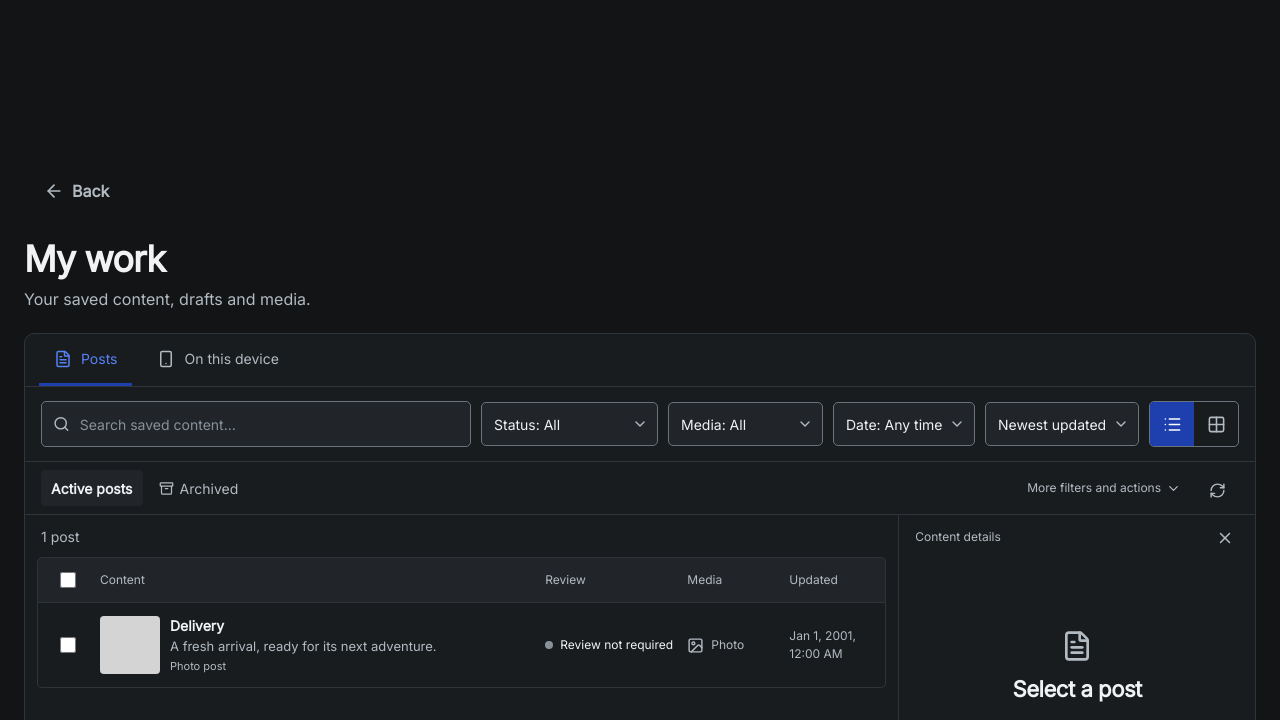
Test: Content workspace › offers a retry if the explicit device collection read fails
(page scrolled)
Step 1. Click the button "On this device" → x=218, y=360, box [142, 334, 294, 386]
(page scrolled)
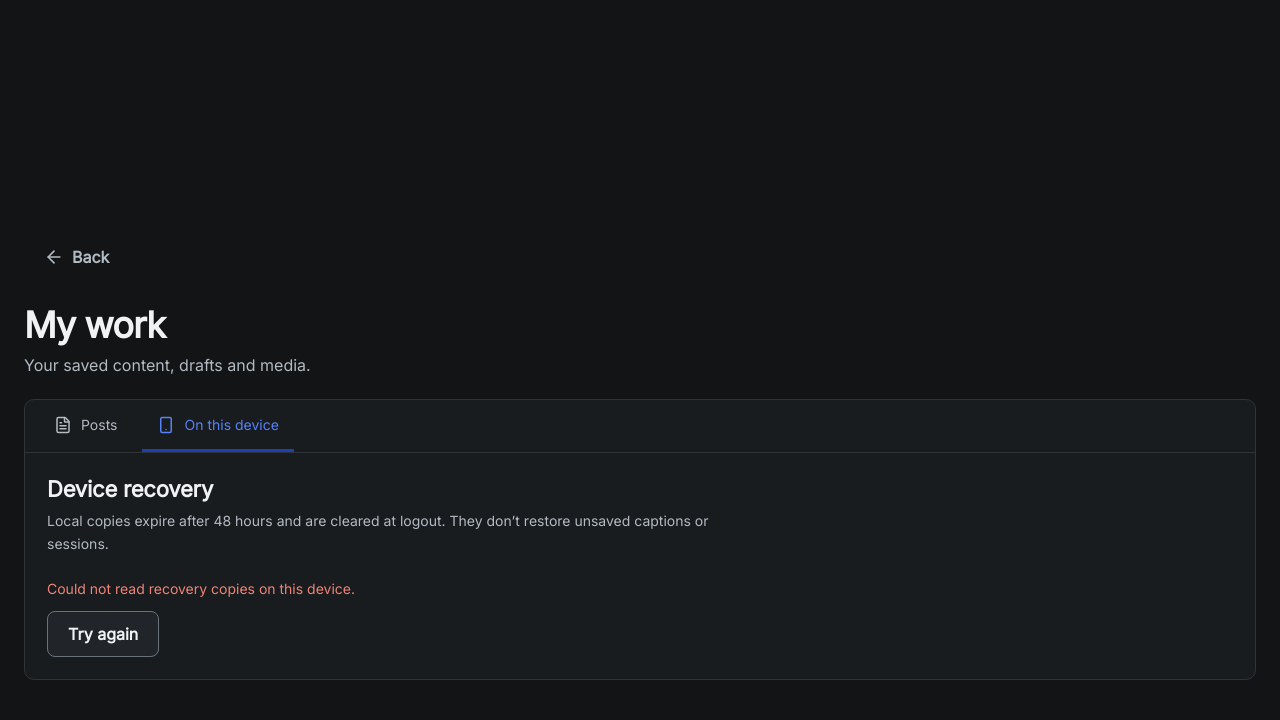
Now the message shows "Could not read recovery copies", box [47, 580, 355, 597]
Step 2. Click the button "Try again" → x=103, y=634, box [47, 611, 159, 657]
(page scrolled)
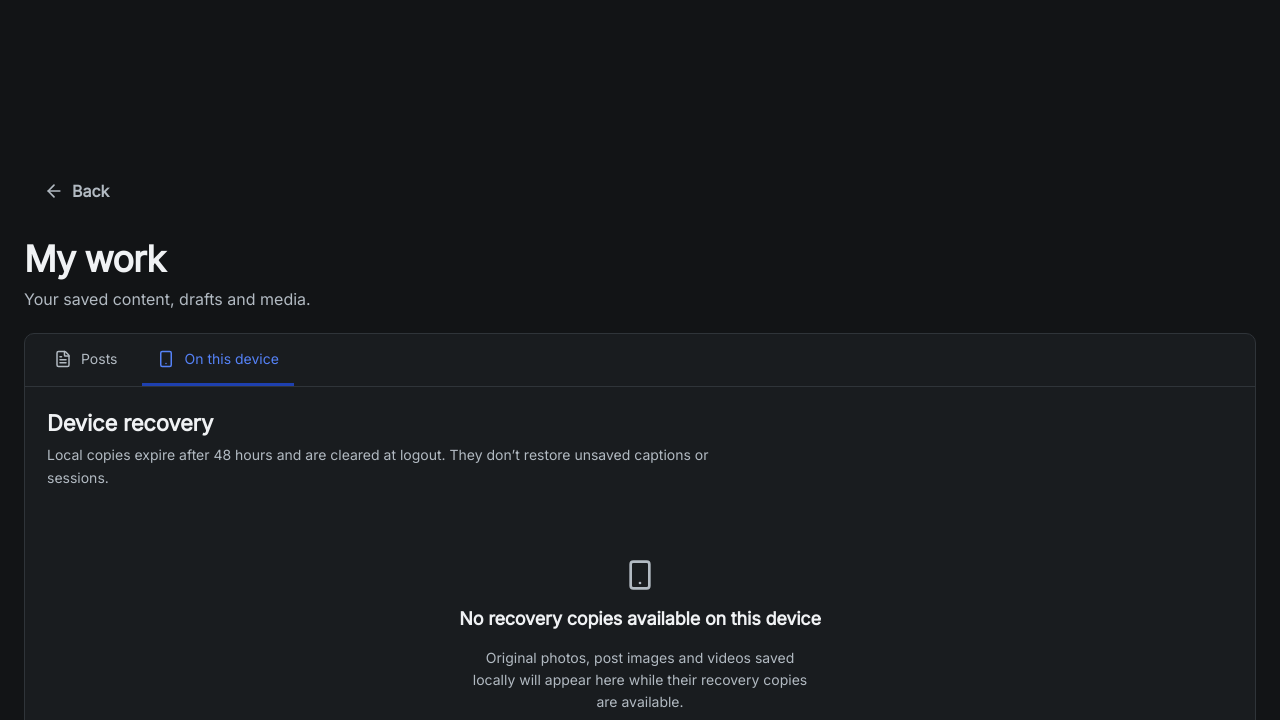
Now the heading "No recovery copies available on this device" is shown, box [459, 605, 821, 633]
